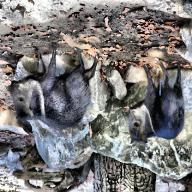boar: (5, 42, 100, 132), (124, 57, 186, 146)
